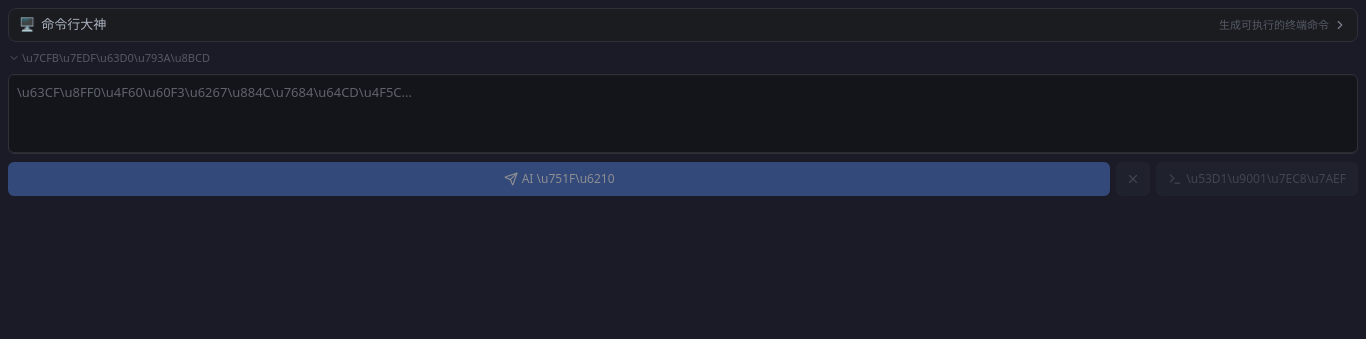
Test: AiCommandTab › generates command and shows result
Type "list all files" into the text box with placeholder "\\u63CF\\u8FF0\\u4F60\\u60F3\\u6267\\u884C\\u7684\\u64CD\\u4F5C..." at (683, 114), box [8, 74, 1358, 154]
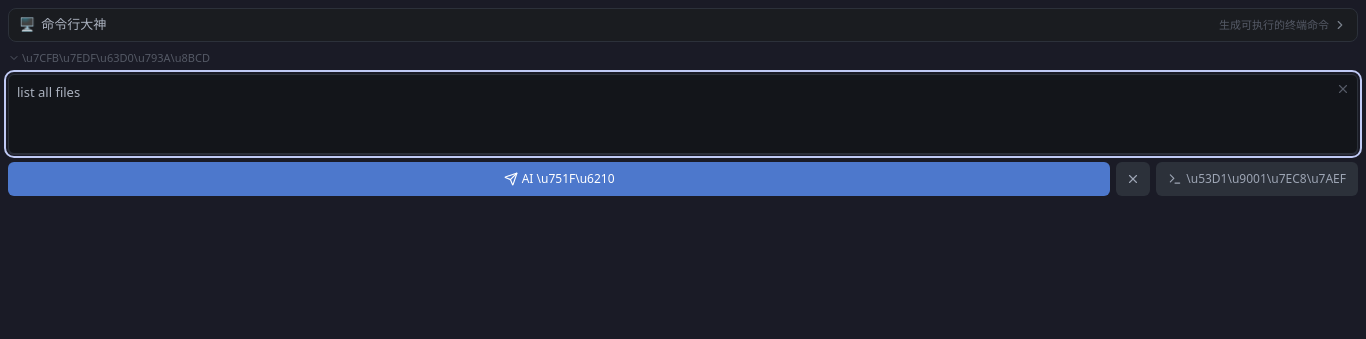
Click the button "AI \\u751F\\u6210" at (559, 179), box [8, 162, 1110, 196]
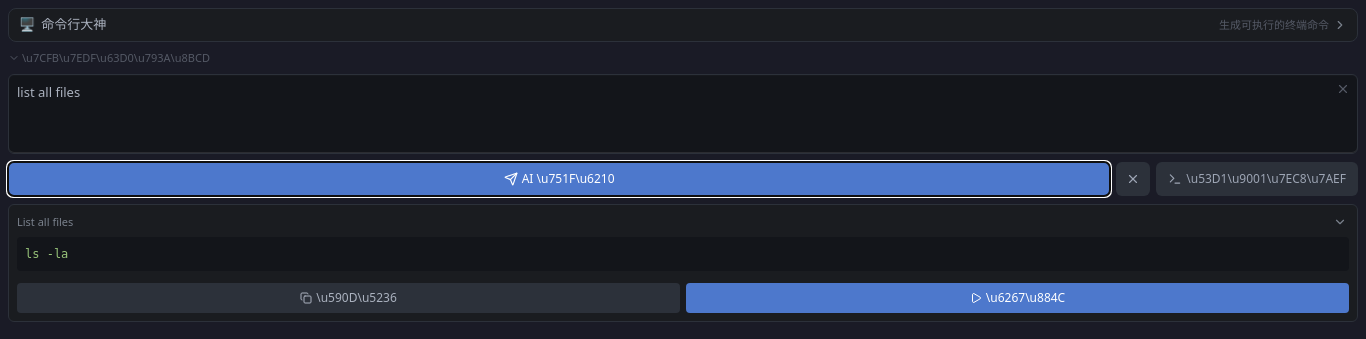
Expected: the text "List all files" is shown, [17, 214, 73, 230]
Expected: the text "ls -la" is shown, [17, 237, 1349, 271]
